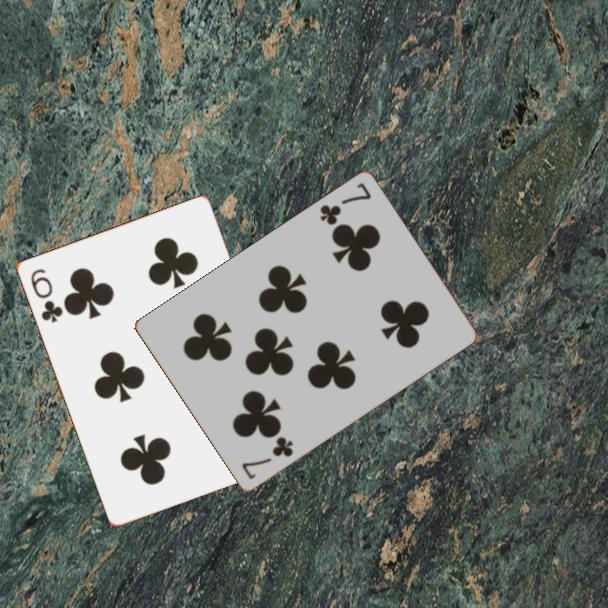c06: (27, 265, 65, 325)
c07: (238, 433, 296, 483), (316, 179, 374, 229)
